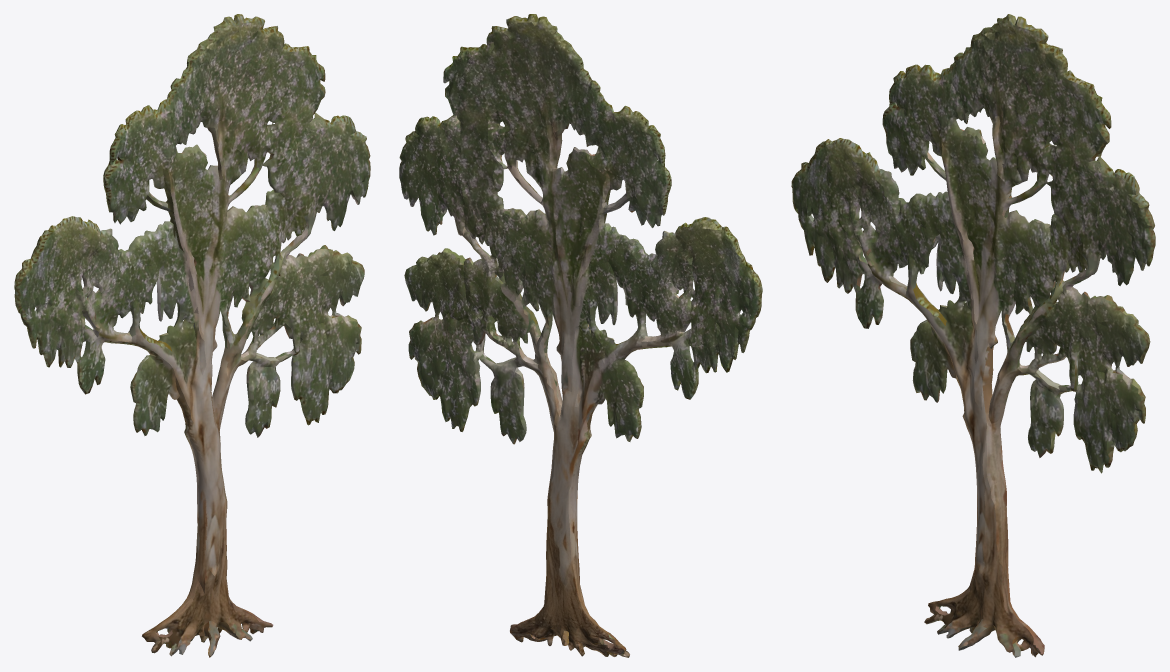
The model's file is generated-eucalyptus.glb.
The picture shows the model from 3 angles, left to right: view 1: azimuth 30°, elevation 25°; view 2: azimuth 150°, elevation 25°; view 3: azimuth 330°, elevation 25°; orthographic projection.
Visible parts, largest first — view 1: tree-2-textured; view 2: tree-2-textured; view 3: tree-2-textured.
Part boxes in pixels (bbox=[...]): tree-2-textured: bbox=[14, 14, 370, 657]; tree-2-textured: bbox=[399, 14, 762, 657]; tree-2-textured: bbox=[791, 14, 1155, 657].
Bounding box in the file's own units: 1.19 × 1.98 × 0.1266.
1 material, 1 textured.
